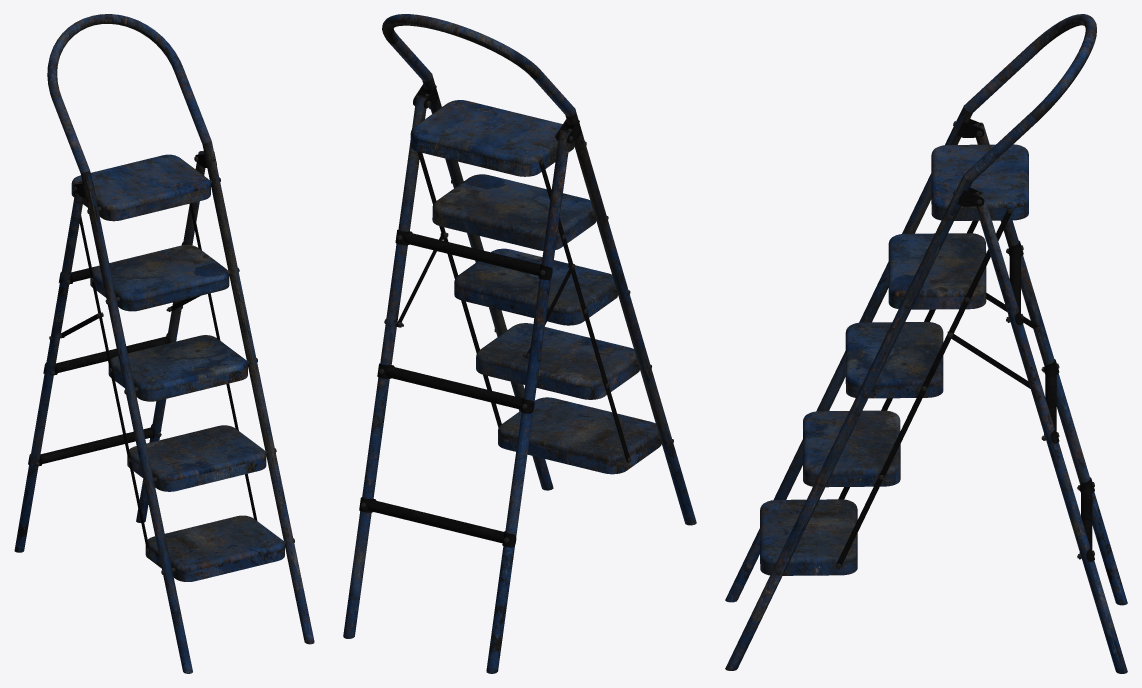
Rendered from ladder.glb.
3 views of the same model, side by side, from view 1: azimuth 30°, elevation 25°; view 2: azimuth 150°, elevation 25°; view 3: azimuth 270°, elevation 25° (orthographic). The views are drawn at different scales.
Parts seen in each view (by area): view 1: Steel1, Redondeo1; view 2: Steel1, Redondeo1; view 3: Steel1, Redondeo1.
Boxes of the visible parts, bbox=[...] form: Steel1: bbox=[14, 14, 314, 673]; Redondeo1: bbox=[35, 156, 294, 574]; Steel1: bbox=[343, 14, 696, 673]; Redondeo1: bbox=[361, 85, 673, 542]; Steel1: bbox=[725, 14, 1127, 673]; Redondeo1: bbox=[776, 121, 1094, 575].
Bounding box in the file's own units: 13.04 × 49.16 × 29.29.
2 materials, 1 textured.
